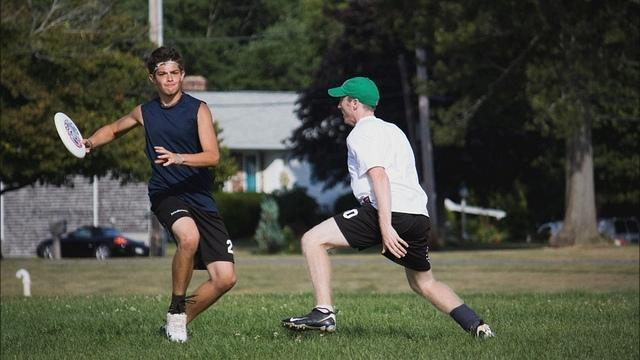car: (36, 226, 152, 259), (536, 209, 617, 244)
